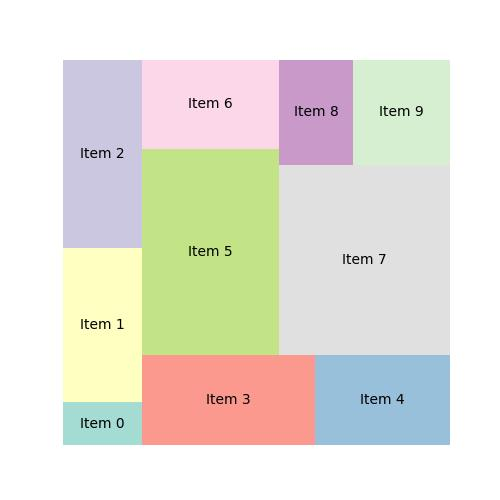rectangle: (278, 162, 449, 354), (141, 149, 279, 354), (141, 354, 316, 446), (61, 59, 141, 247), (141, 59, 279, 149), (62, 245, 141, 401), (316, 354, 449, 446), (352, 58, 449, 164), (276, 59, 353, 164), (61, 401, 141, 446)
